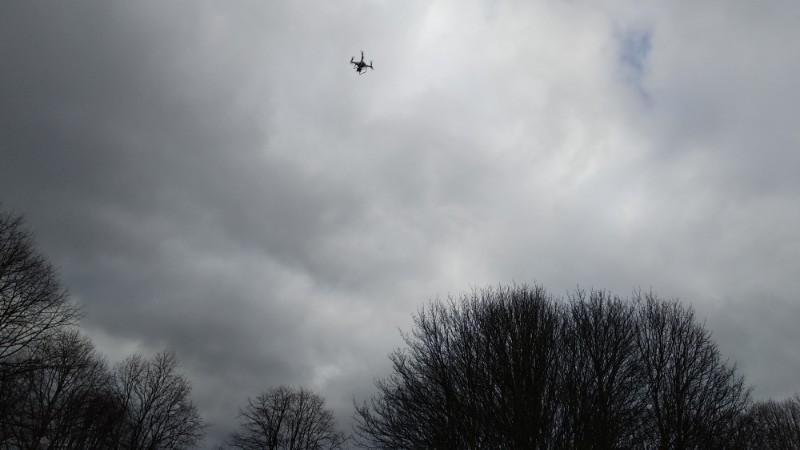drone: (349, 52, 374, 74)
